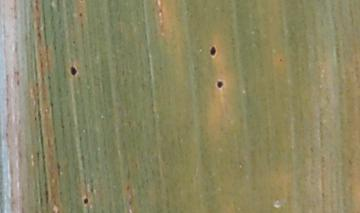tarspot: (68, 65, 79, 77), (209, 44, 217, 56), (215, 79, 224, 89), (35, 30, 43, 41), (82, 196, 89, 205), (77, 10, 84, 19), (15, 77, 21, 87), (48, 101, 55, 108), (31, 114, 37, 122), (71, 38, 77, 45), (277, 56, 283, 63)
